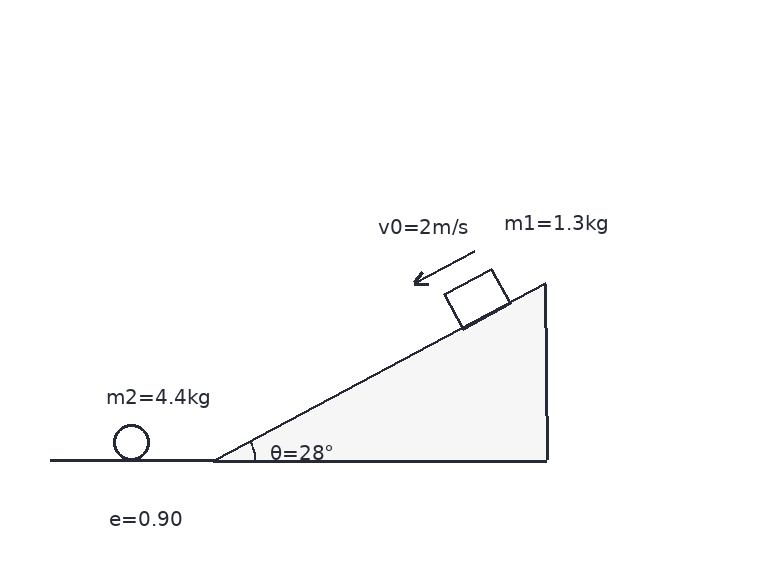ball: (111, 422, 151, 462)
block: (442, 267, 512, 330)
ramp: (213, 282, 548, 462)
